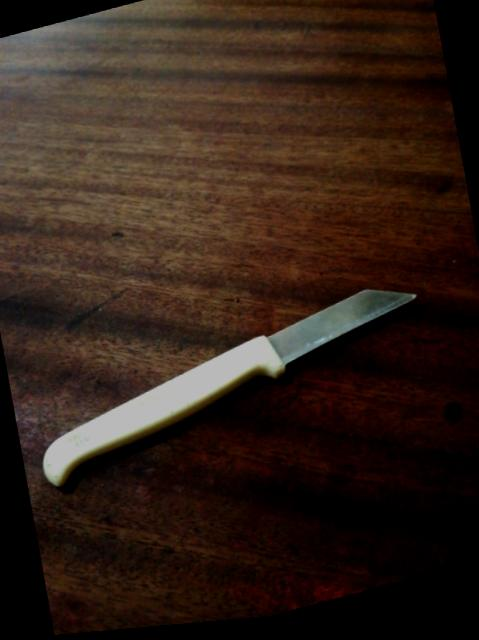Knife: (43, 289, 416, 487)
